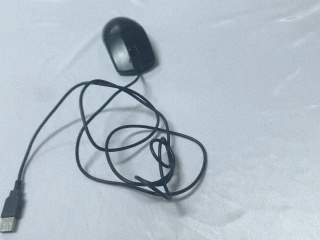mouse: (103, 17, 157, 77)
